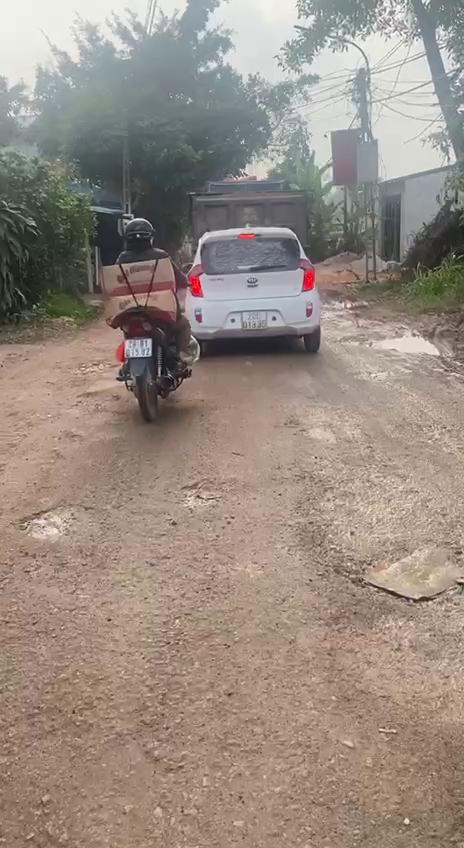pothole: (19, 496, 84, 545), (334, 331, 442, 358), (183, 478, 238, 509)
